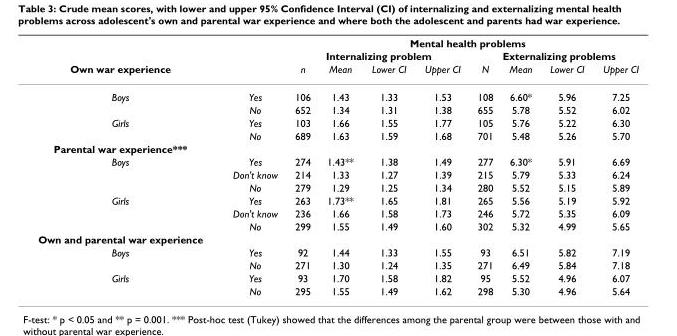table: (37, 36, 637, 296)
table column: (37, 36, 217, 296), (217, 36, 285, 296), (414, 36, 468, 296), (362, 36, 414, 296), (540, 36, 592, 296), (592, 36, 637, 296), (318, 36, 362, 296), (500, 36, 540, 296), (285, 36, 318, 296), (468, 36, 500, 296)
table column header: (37, 36, 637, 82)
table projected row header: (37, 141, 637, 154), (37, 232, 637, 245)
table row: (37, 61, 637, 82), (37, 82, 637, 103), (37, 48, 637, 61), (37, 115, 637, 128), (37, 128, 637, 141), (37, 141, 637, 154), (37, 154, 637, 167), (37, 167, 637, 180), (37, 180, 637, 193), (37, 193, 637, 206), (37, 206, 637, 219), (37, 219, 637, 232), (37, 232, 637, 245), (37, 245, 637, 258), (37, 258, 637, 271), (37, 271, 637, 284), (37, 36, 637, 48), (37, 103, 637, 115), (37, 284, 637, 296)
table spanning cell: (37, 36, 217, 82), (37, 154, 217, 193), (37, 193, 217, 232), (37, 82, 217, 115), (37, 115, 217, 141), (37, 245, 217, 271), (37, 271, 217, 296), (285, 36, 637, 48), (285, 48, 468, 61), (468, 48, 637, 61)
